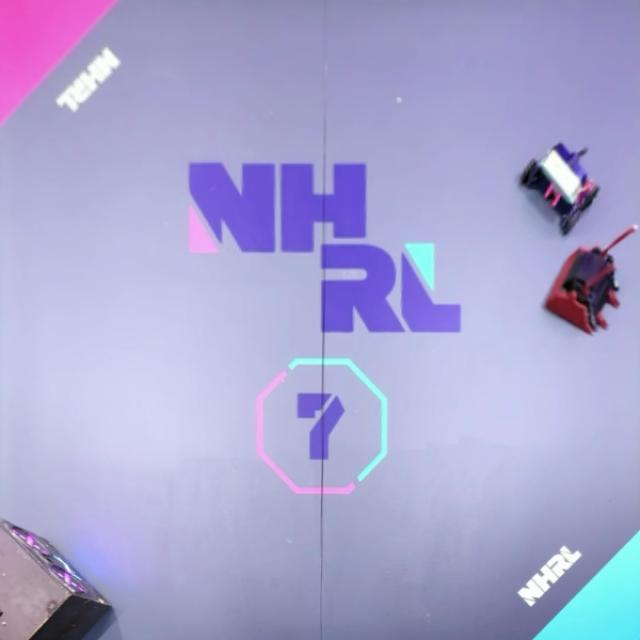housebot: (0, 518, 113, 639)
robot: (542, 227, 636, 334), (520, 140, 600, 235)
